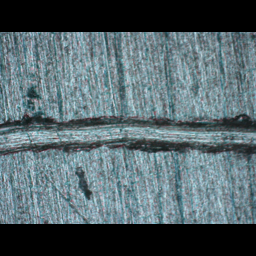d: (0, 112, 254, 160)
